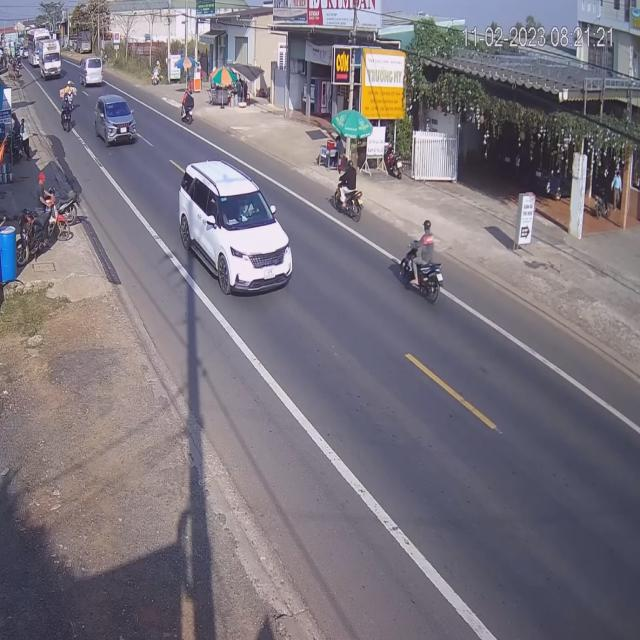car: (176, 156, 291, 296), (94, 96, 136, 150), (40, 44, 62, 81), (83, 58, 104, 89), (60, 94, 72, 133)
motorbike: (397, 221, 447, 308), (333, 162, 364, 221), (180, 88, 196, 125)
